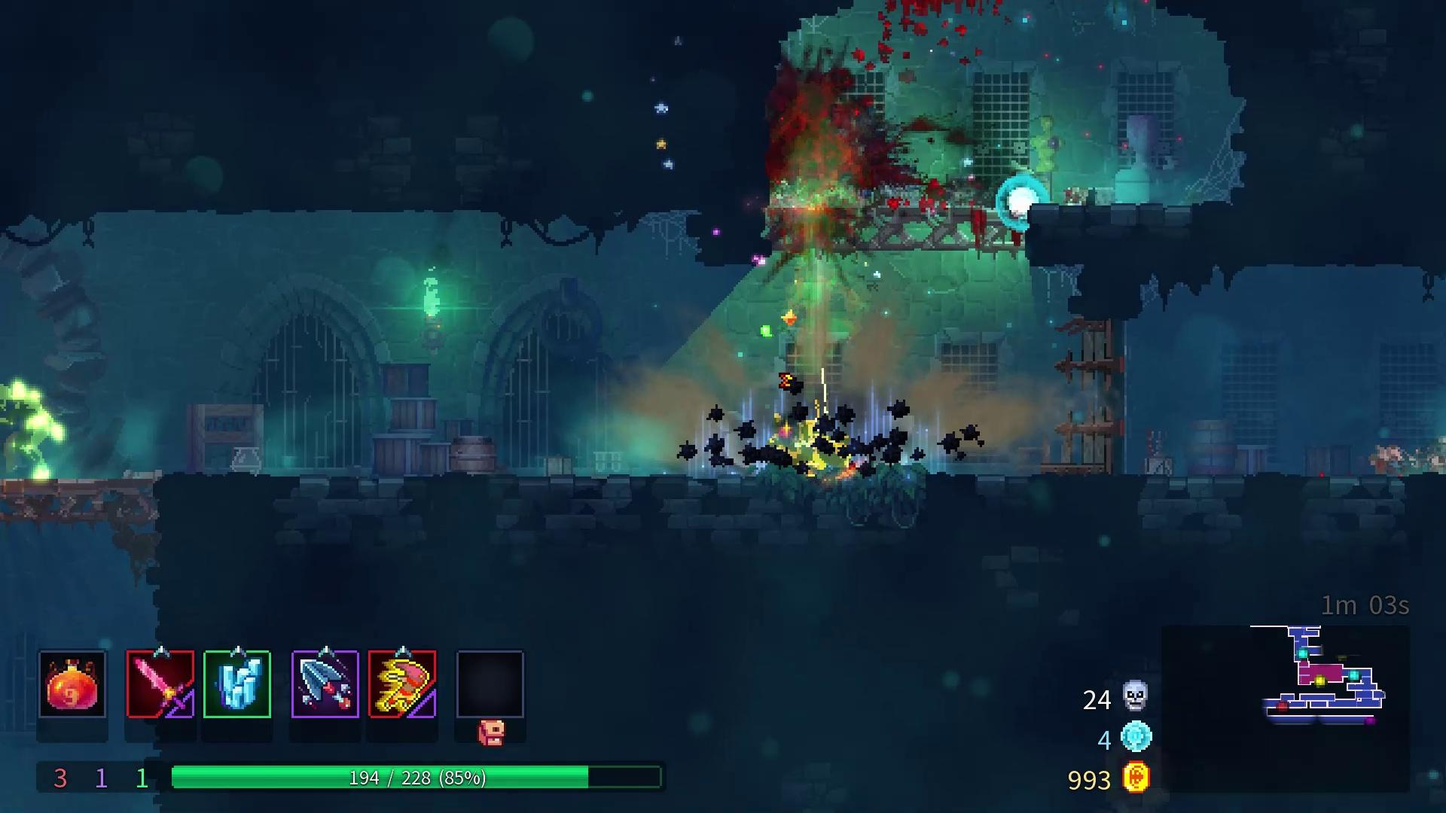green1: (0, 379, 67, 481)
